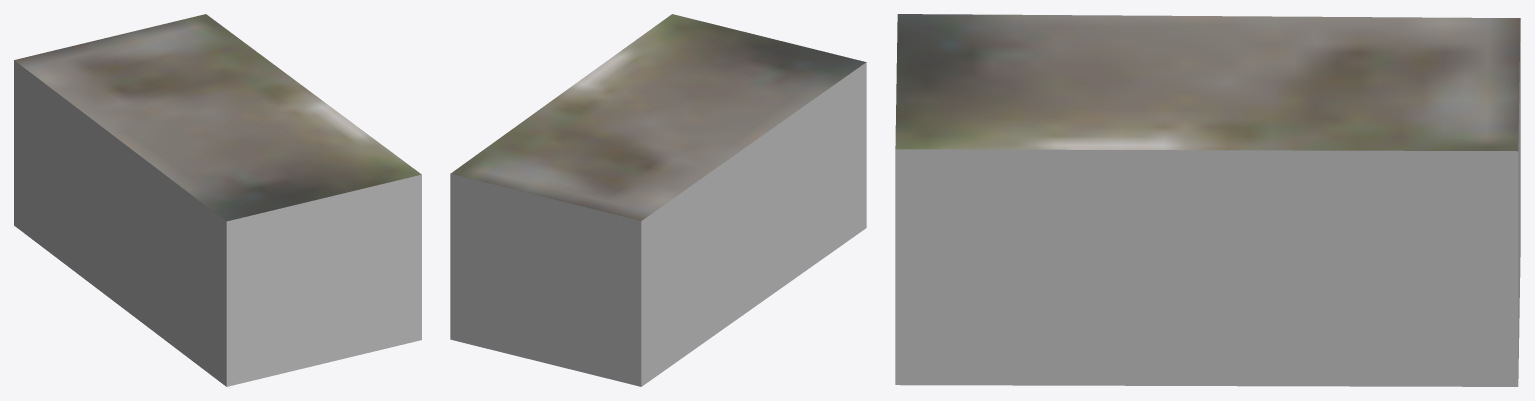
The model's file is DEBW_0010007Txea.gltf.
The picture shows the model from 3 angles, left to right: view 1: azimuth 30°, elevation 25°; view 2: azimuth 150°, elevation 25°; view 3: azimuth 270°, elevation 25°; orthographic projection. The views are drawn at different scales.
Parts seen in each view (by area): view 1: Z_UP; view 2: Z_UP; view 3: Z_UP.
Boxes of the visible parts, <box> form: Z_UP: <box>14,14,421,386</box>; Z_UP: <box>450,14,866,386</box>; Z_UP: <box>895,14,1520,386</box>.
Bounding box in the file's own units: 2.97 × 2.38 × 5.72.
2 materials, 1 textured.
